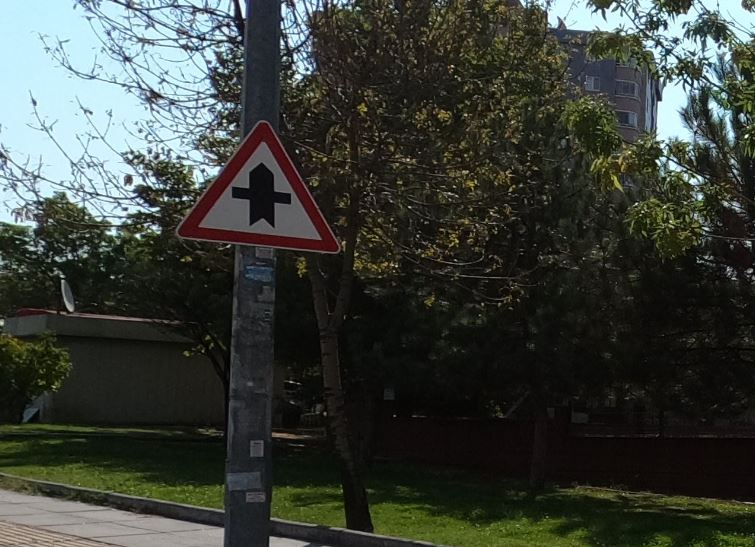Ana Yol Tali Yol: (175, 110, 338, 273)
